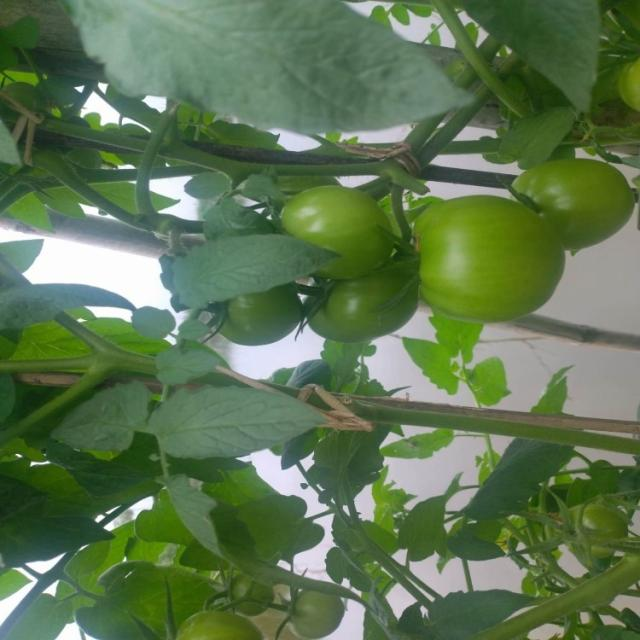tomato: (407, 188, 576, 312), (276, 176, 391, 280), (518, 147, 640, 241), (301, 264, 433, 349), (211, 276, 299, 351), (283, 584, 339, 640), (571, 502, 626, 559), (228, 563, 277, 619), (172, 616, 269, 640), (617, 54, 640, 113)
